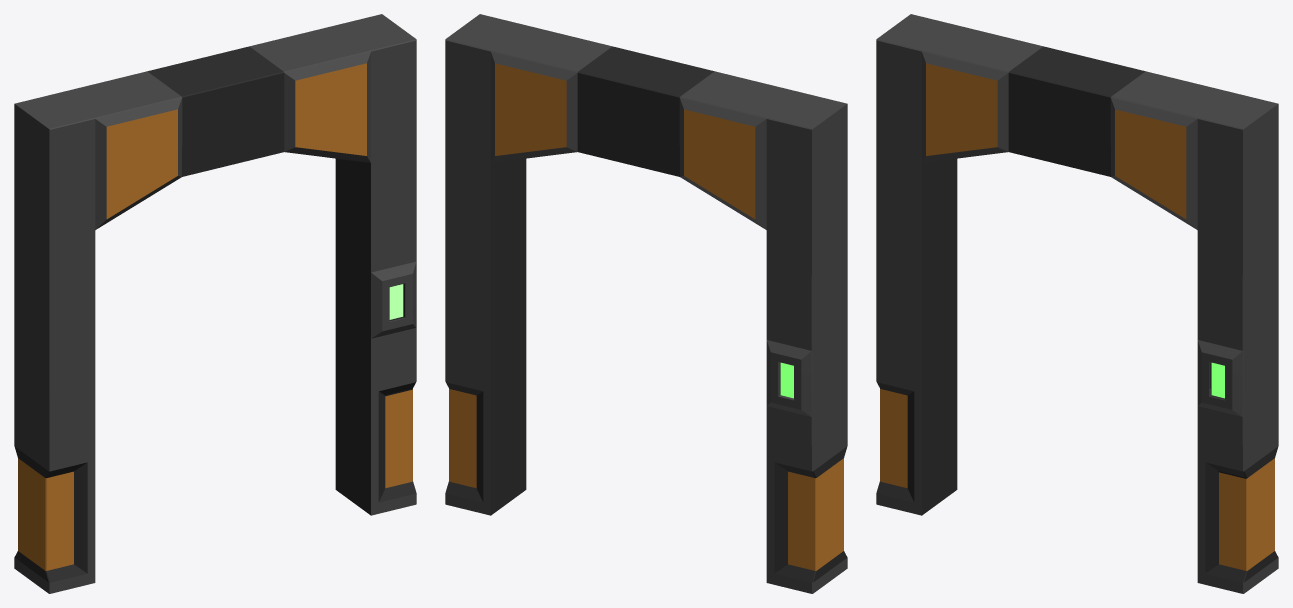
File: area_51_door_frame.glb
The picture shows the model from 3 angles, left to right: view 1: azimuth 30°, elevation 25°; view 2: azimuth 150°, elevation 25°; view 3: azimuth 330°, elevation 25°; orthographic projection.
Parts seen in each view (by area): view 1: area51_door_frame-col; view 2: area51_door_frame-col; view 3: area51_door_frame-col.
Part boxes in pixels (x1,y1,x2,y2): area51_door_frame-col: (14,14,416,593); area51_door_frame-col: (445,14,847,593); area51_door_frame-col: (876,14,1278,593).
Size of the model in its own units: 2.4 by 2.9 by 0.48.
Materials: 2 (1 with a texture image).
